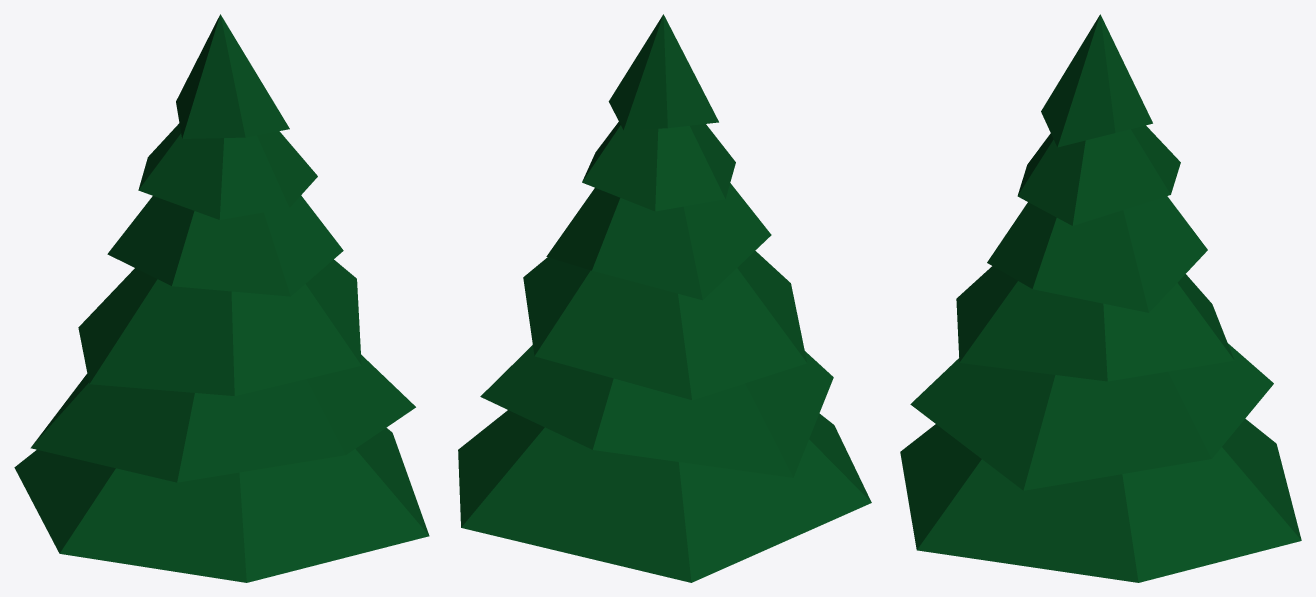
Rendered from Tree7.fbx.
The picture shows the model from 3 angles, left to right: view 1: azimuth 30°, elevation 25°; view 2: azimuth 150°, elevation 25°; view 3: azimuth 270°, elevation 25°; orthographic projection. The views are drawn at different scales.
Visible parts, largest first — view 1: Wood.002; view 2: Wood.002; view 3: Wood.002.
Boxes of the visible parts, <box> form: Wood.002: <box>14,14,429,582</box>; Wood.002: <box>458,14,871,582</box>; Wood.002: <box>900,14,1301,582</box>.
Size of the model in its own units: 659 by 879 by 609.
